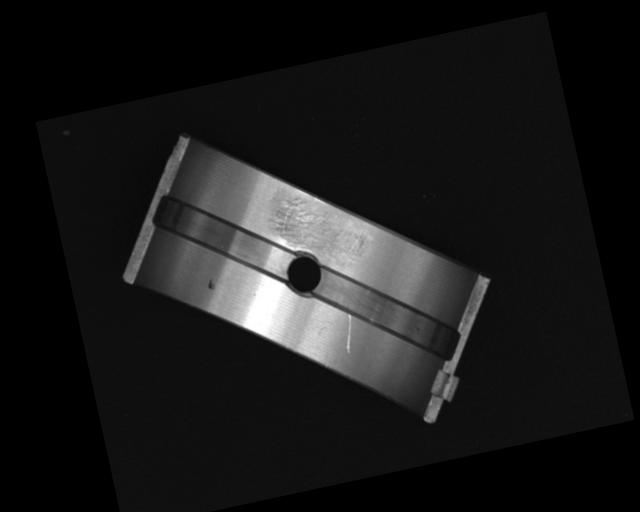bruise: (205, 277, 216, 291)
gap: (305, 249, 461, 378), (148, 175, 295, 300)
hole: (280, 251, 326, 298)
nick: (340, 313, 358, 354)
scratch: (267, 183, 375, 281)
